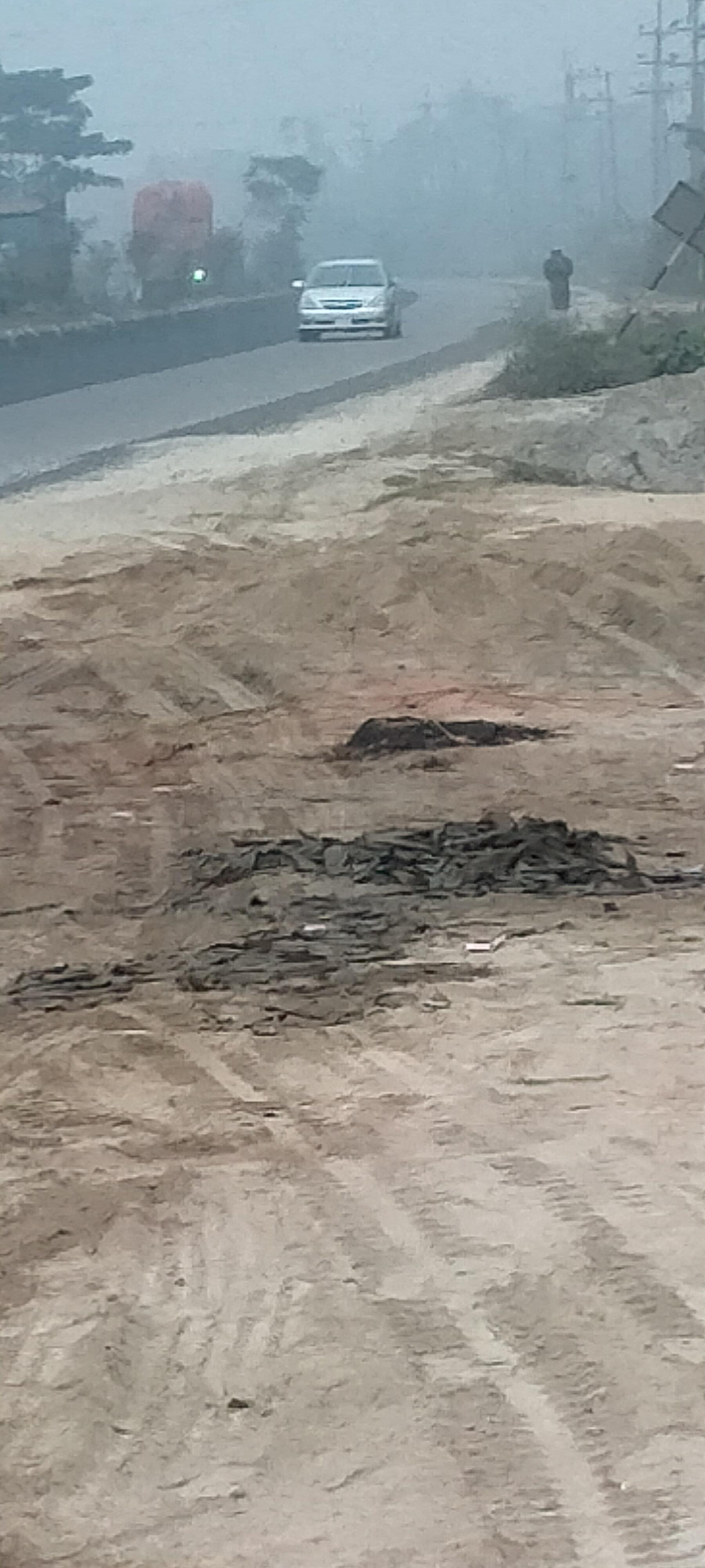Car: (253, 229, 429, 379)
Truck: (116, 155, 233, 314)
